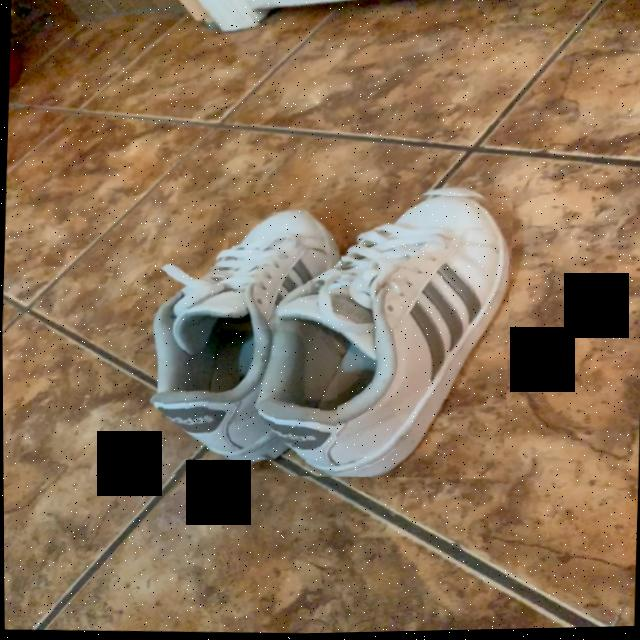shoe: (153, 195, 510, 478), (152, 215, 340, 461)
